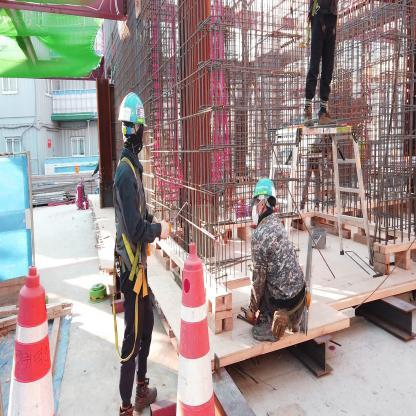safety-shoe: (131, 378, 159, 413), (254, 316, 278, 347), (316, 110, 338, 132), (304, 108, 314, 130)
